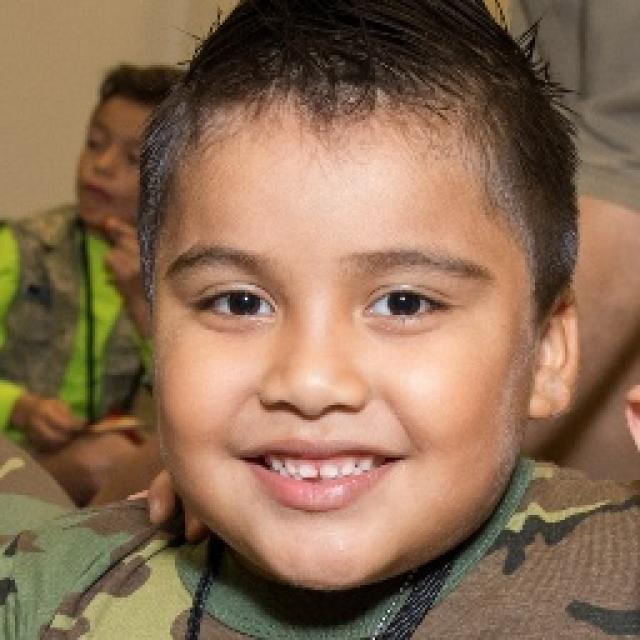earlobe: (529, 287, 585, 419)
